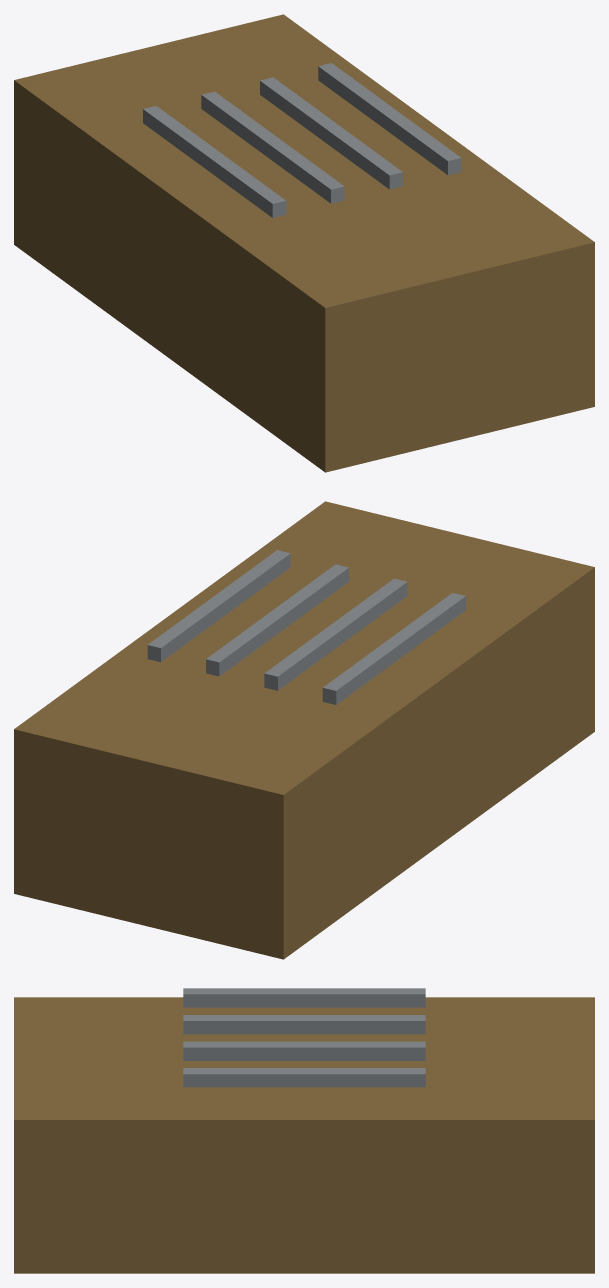
The model's file is nails.glb.
3 renders of one model, top to bottom at view 1: azimuth 30°, elevation 25°; view 2: azimuth 150°, elevation 25°; view 3: azimuth 270°, elevation 25°, orthographic. The views are drawn at different scales.
Parts seen in each view (by area): view 1: nails; view 2: nails; view 3: nails.
Part boxes in pixels (box(x1,y1,x2,y2)): nails: box(14, 14, 594, 472); nails: box(14, 501, 594, 959); nails: box(14, 988, 594, 1273).
Size of the model in its own units: 0.06 by 0.041 by 0.12.
